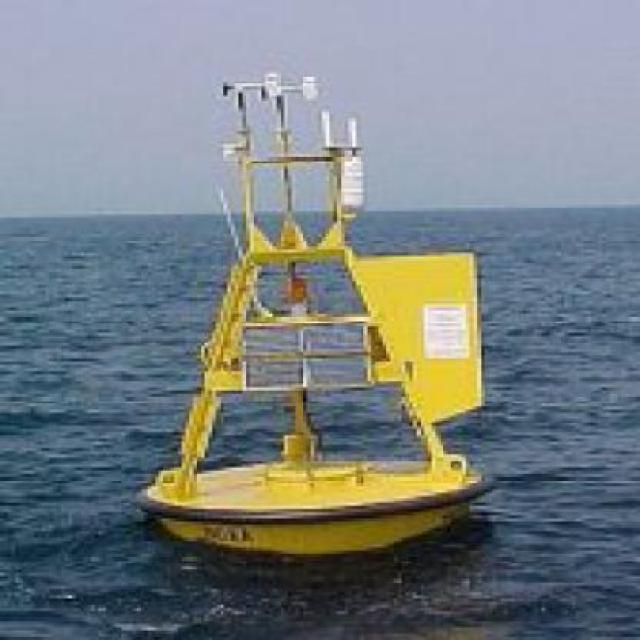buoy: (119, 68, 520, 571)
